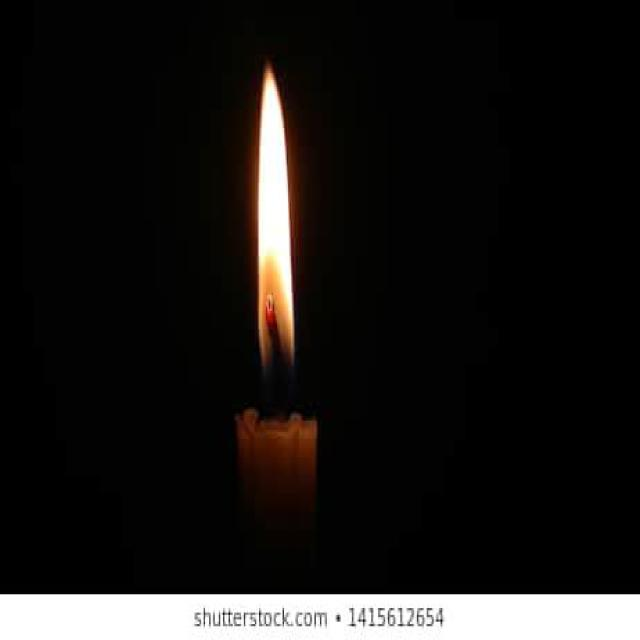fire: (257, 69, 308, 395)
